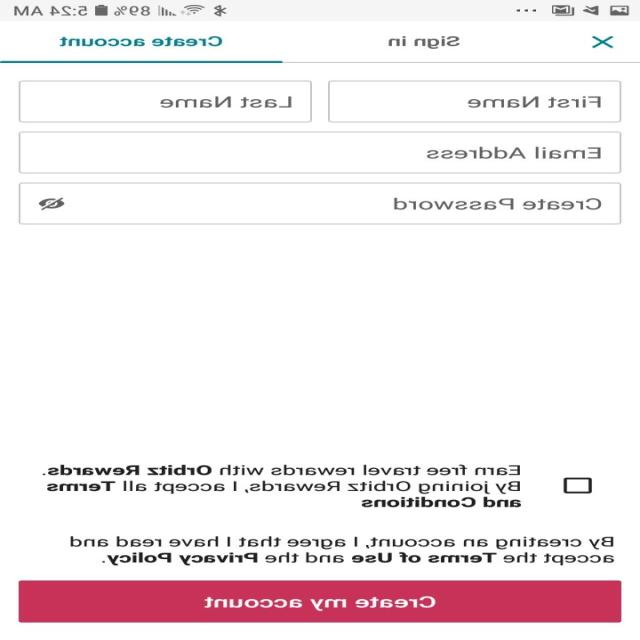EditText: (20, 182, 622, 225), (20, 131, 622, 173), (19, 80, 313, 122), (328, 80, 621, 122)
Icon: (39, 197, 66, 210), (591, 35, 614, 48)
Text: (42, 464, 522, 507), (70, 536, 615, 566), (394, 198, 602, 210), (426, 146, 602, 159), (60, 36, 224, 46), (468, 96, 602, 108), (160, 96, 292, 108), (388, 35, 461, 49)
TextButton: (19, 580, 622, 622)
